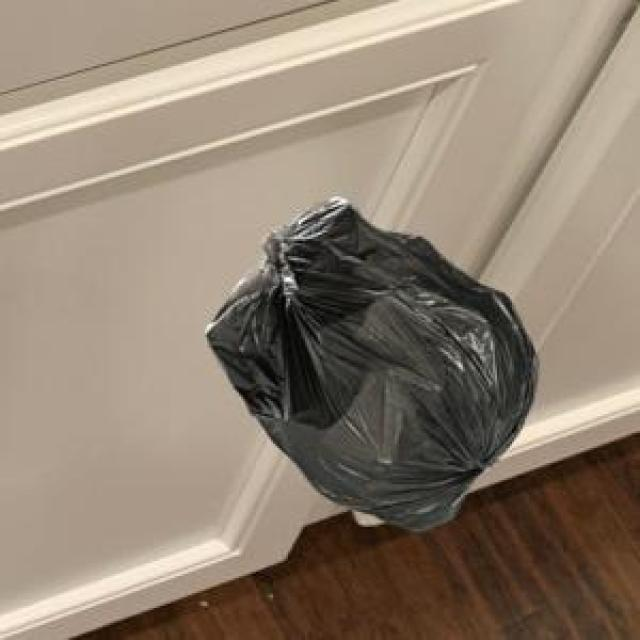garbage_bag: (200, 192, 542, 534)
